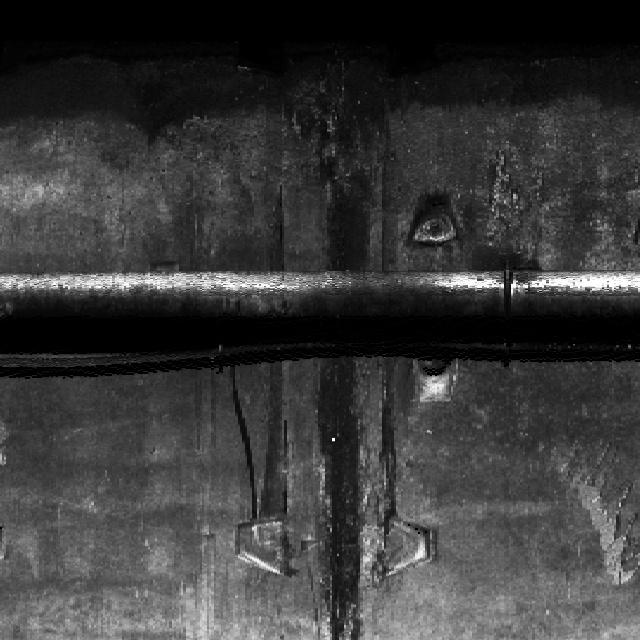leakage: (4, 0, 639, 140), (297, 354, 365, 639), (237, 355, 291, 519), (317, 154, 377, 268), (261, 167, 292, 267)
